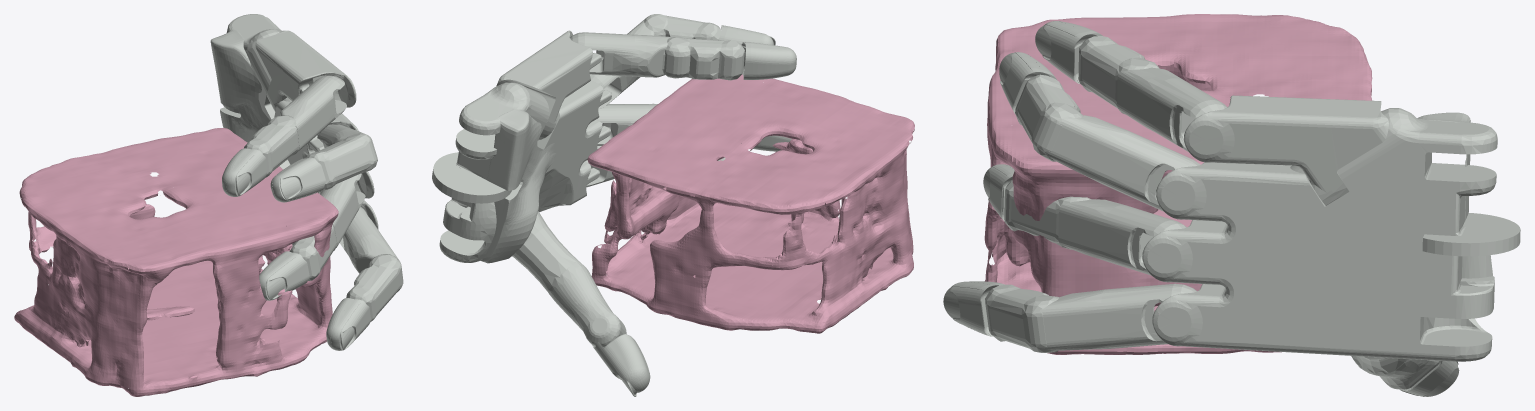
3 renders of one model, left to right at view 1: azimuth 30°, elevation 25°; view 2: azimuth 150°, elevation 25°; view 3: azimuth 270°, elevation 25°, orthographic. The views are drawn at different scales.
Parts seen in each view (by area): view 1: world, hand_isaac_q; view 2: world, hand_isaac_q; view 3: hand_isaac_q, world.
Part boxes in pixels (bbox=[...]): world: bbox=[14, 128, 338, 396]; hand_isaac_q: bbox=[210, 14, 403, 350]; world: bbox=[587, 74, 914, 333]; hand_isaac_q: bbox=[432, 14, 796, 396]; hand_isaac_q: bbox=[943, 21, 1520, 396]; world: bbox=[984, 14, 1372, 354].
Size of the model in its own units: 0.1877 by 0.1429 by 0.1934.
